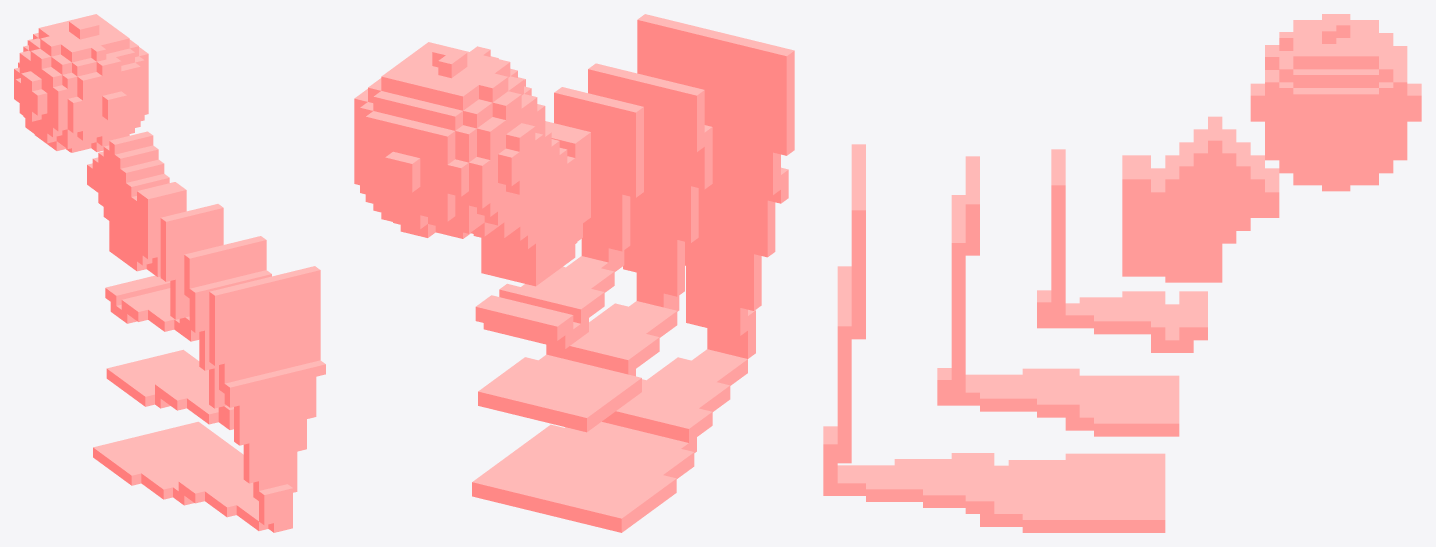
The model's file is red-ball.gltf.
3 renders of one model, left to right at view 1: azimuth 30°, elevation 25°; view 2: azimuth 150°, elevation 25°; view 3: azimuth 270°, elevation 25°, orthographic. The views are drawn at different scales.
Visible parts, largest first — view 1: 火焰标识; view 2: 火焰标识; view 3: 火焰标识.
Boxes of the visible parts, x1=… form: 火焰标识: x1=14, y1=14, x2=325, y2=532; 火焰标识: x1=354, y1=14, x2=794, y2=532; 火焰标识: x1=823, y1=14, x2=1421, y2=532.
Size of the model in its own units: 1.32 by 4.44 by 5.04.
